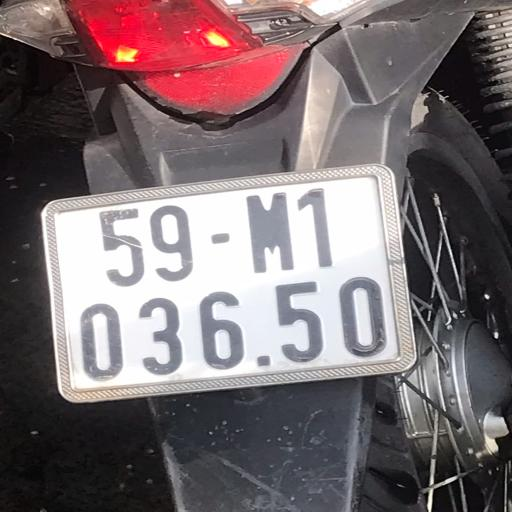0: (321, 280, 402, 358), (71, 300, 134, 385)
1: (289, 182, 351, 275)
3: (128, 294, 198, 388)
5: (251, 279, 336, 377), (86, 198, 154, 290)
6: (187, 286, 254, 374)
9: (147, 202, 210, 294)
M: (235, 190, 306, 283)
